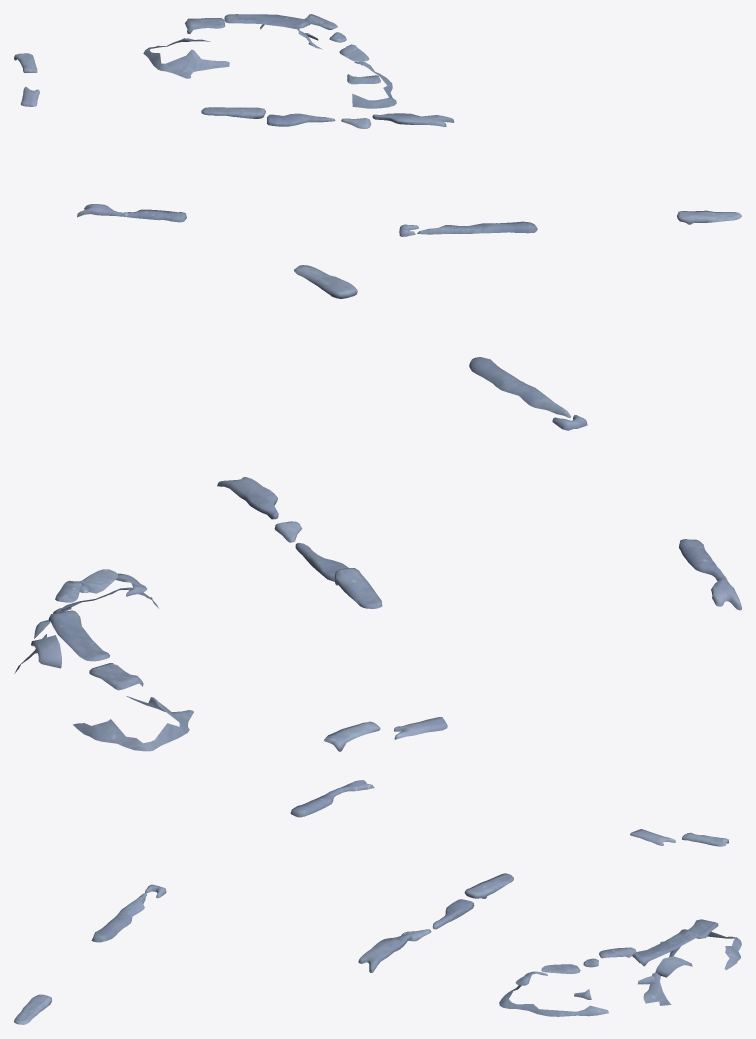
File: pref_sm_beach_winter_snow12_lv1.fbx
The picture shows the model from 3 angles, top to bottom: view 1: azimuth 30°, elevation 25°; view 2: azimuth 150°, elevation 25°; view 3: azimuth 270°, elevation 25°; orthographic projection. The views are drawn at different scales.
Visible parts, largest first — view 1: pref_sm_beach_winter_snow12_lv1; view 2: pref_sm_beach_winter_snow12_lv1; view 3: pref_sm_beach_winter_snow12_lv1.
Part boxes in pixels (left/top/right/bottom): pref_sm_beach_winter_snow12_lv1: left=14, top=14, right=741, bottom=236; pref_sm_beach_winter_snow12_lv1: left=14, top=265, right=741, bottom=751; pref_sm_beach_winter_snow12_lv1: left=14, top=780, right=741, bottom=1024.
Bounding box in the file's own units: 25.61 × 2.33 × 32.03.
